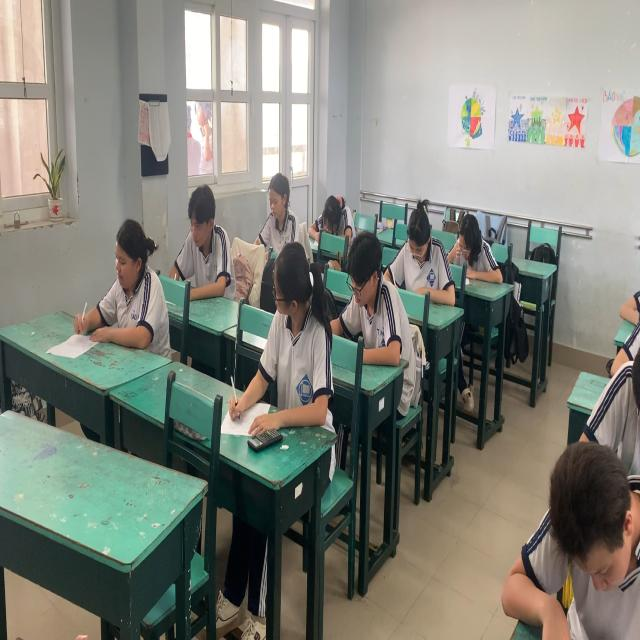cheating: (250, 244, 334, 420)
not_cheating: (342, 237, 406, 382), (107, 216, 157, 341), (178, 189, 237, 292), (394, 207, 446, 313), (442, 219, 506, 272), (260, 171, 293, 240), (316, 189, 359, 230)
